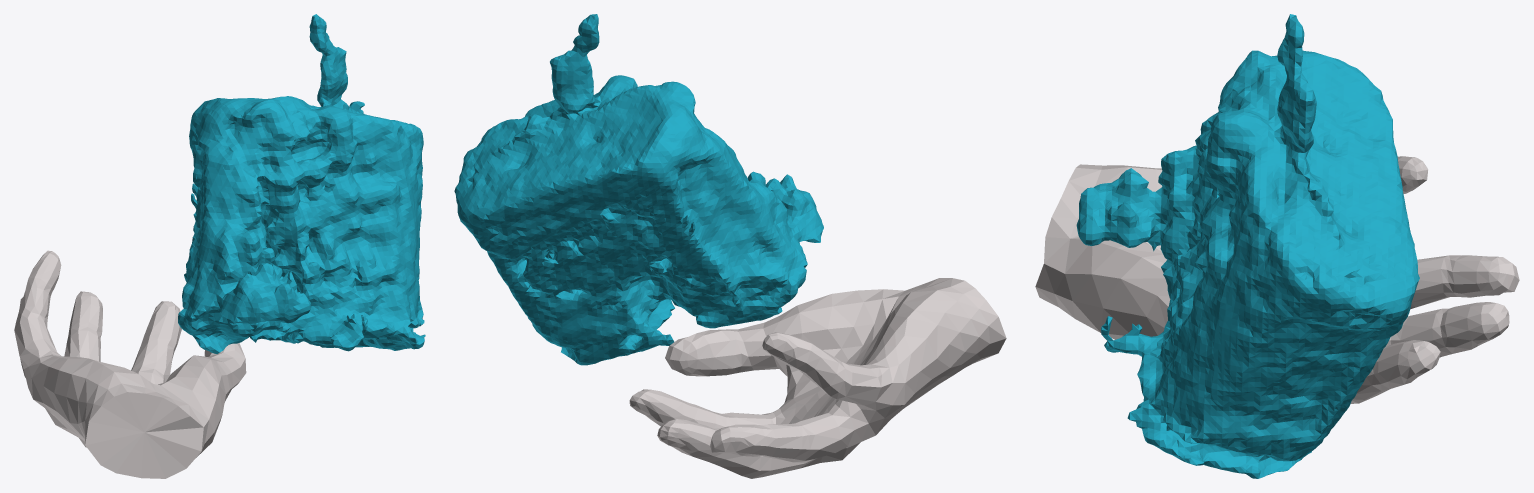
3 renders of one model, left to right at view 1: azimuth 30°, elevation 25°; view 2: azimuth 150°, elevation 25°; view 3: azimuth 270°, elevation 25°, orthographic. The views are drawn at different scales.
Visible parts, largest first — view 1: world; view 2: world; view 3: world.
Part boxes in pixels (left/top/right/bottom): world: left=14, top=14, right=425, bottom=478; world: left=454, top=14, right=1006, bottom=478; world: left=1035, top=14, right=1519, bottom=478.
Bounding box in the file's own units: 0.2363 × 0.2061 × 0.1789.
